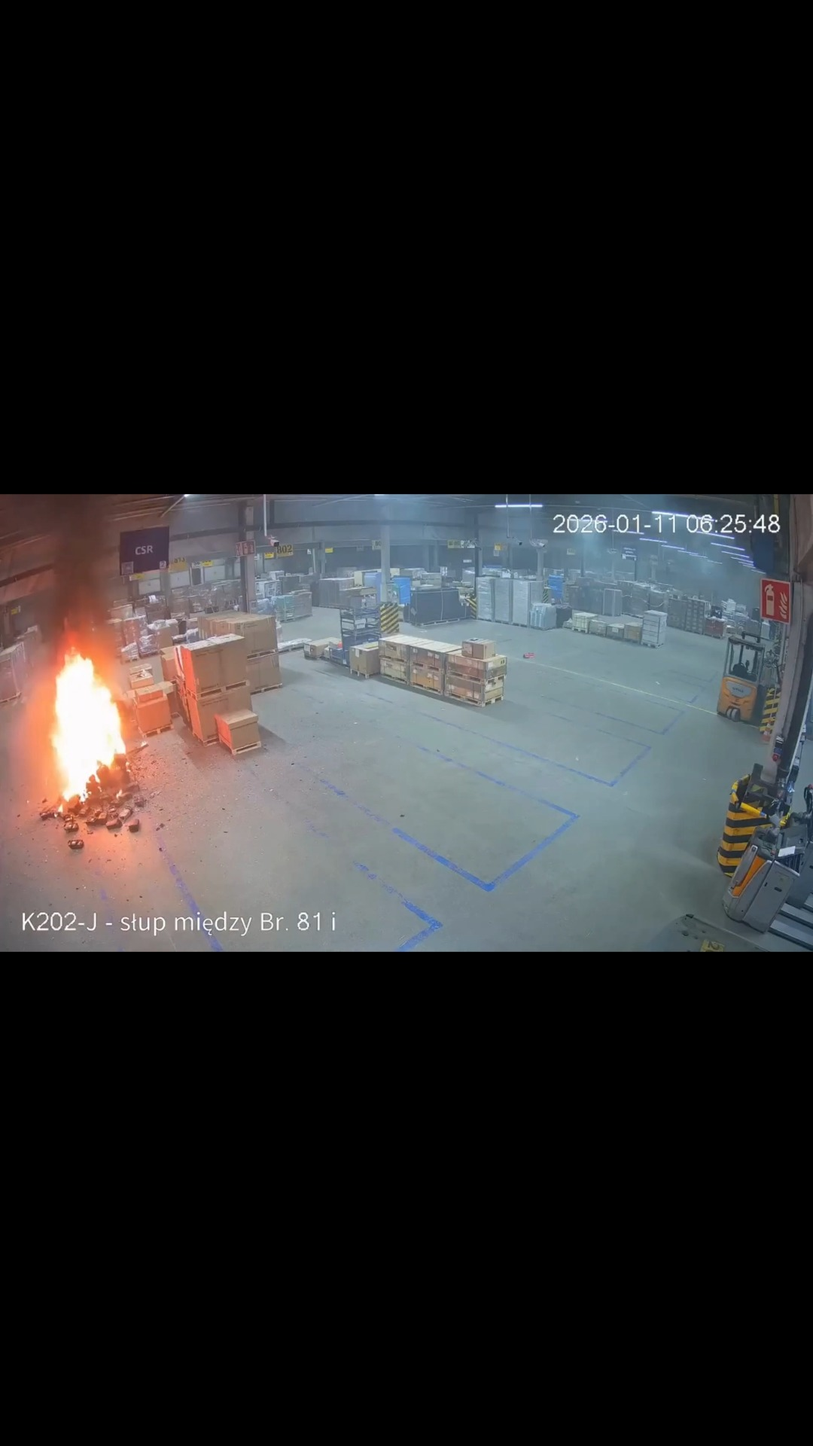fire: (45, 633, 131, 815)
smoke: (14, 499, 129, 654)
